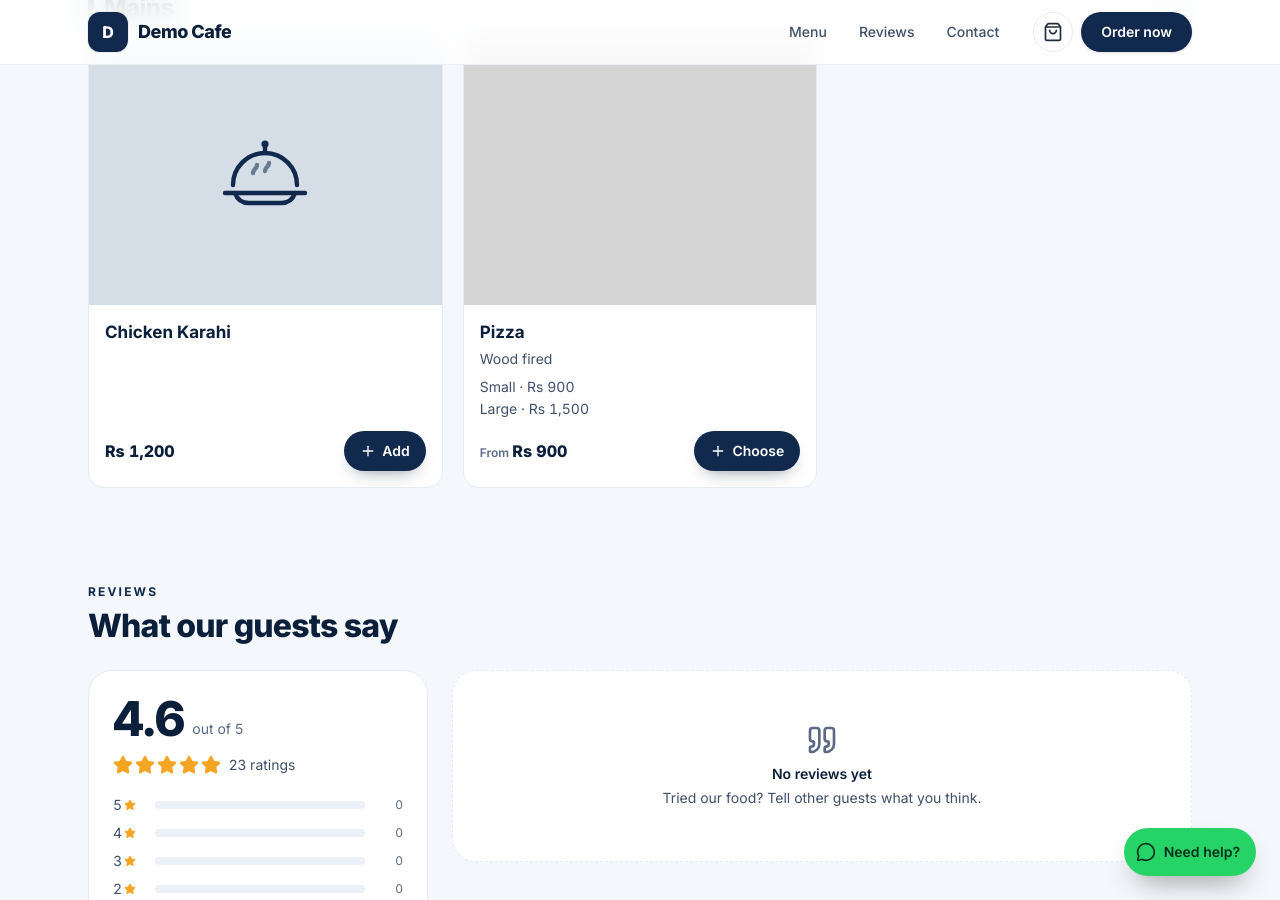
Test: StorefrontView ordering › refuses a delivery below the minimum with a friendly line
(page scrolled)
What coordinates should you click on to do the following:
click the button with aria-label "Add Chicken Karahi"
I would click on:
 (385, 450)
Its box is [344,430,426,470].
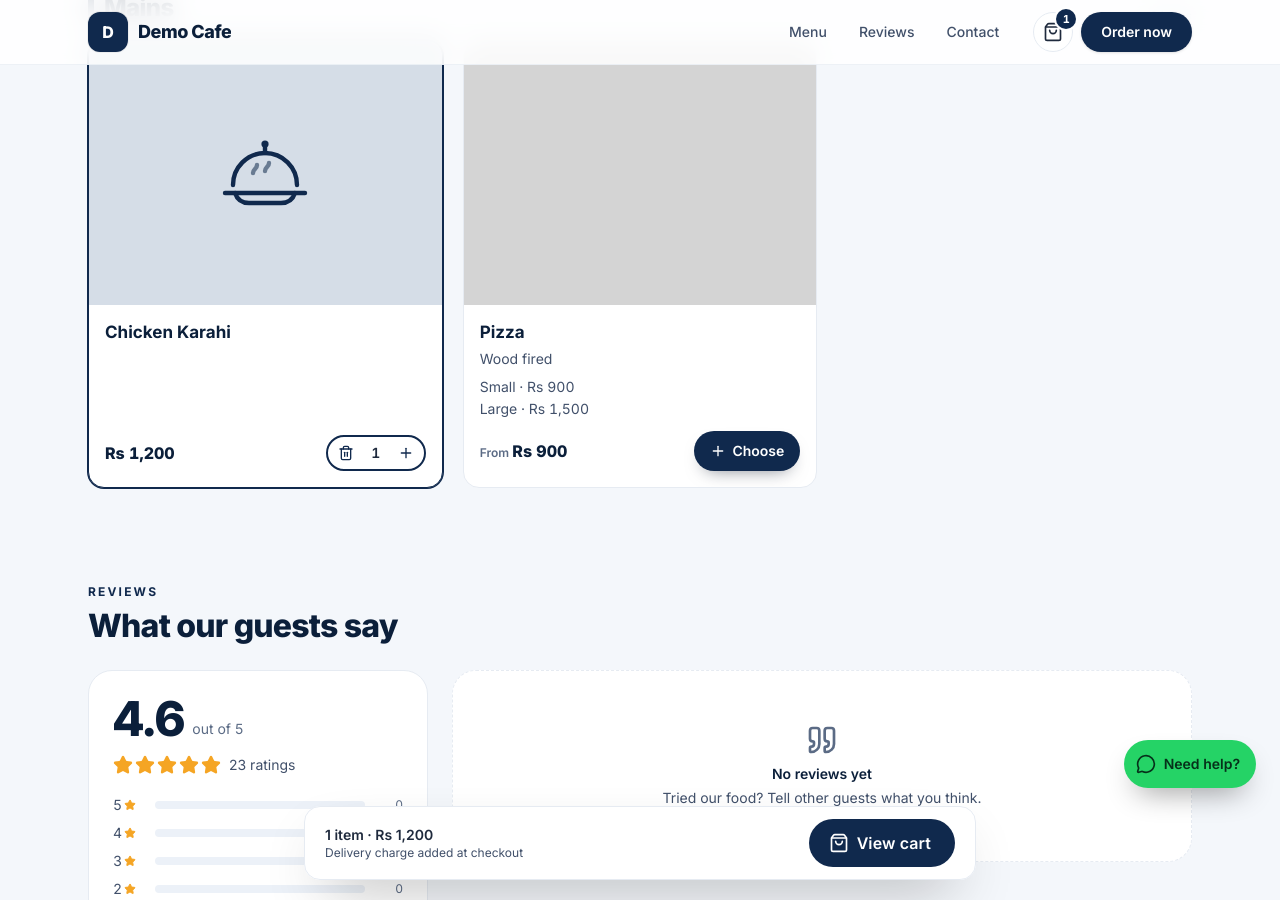
What coordinates should you click on to do the following:
click the button "View cart"
I would click on:
 (882, 843)
Its box is [809,819,955,867].
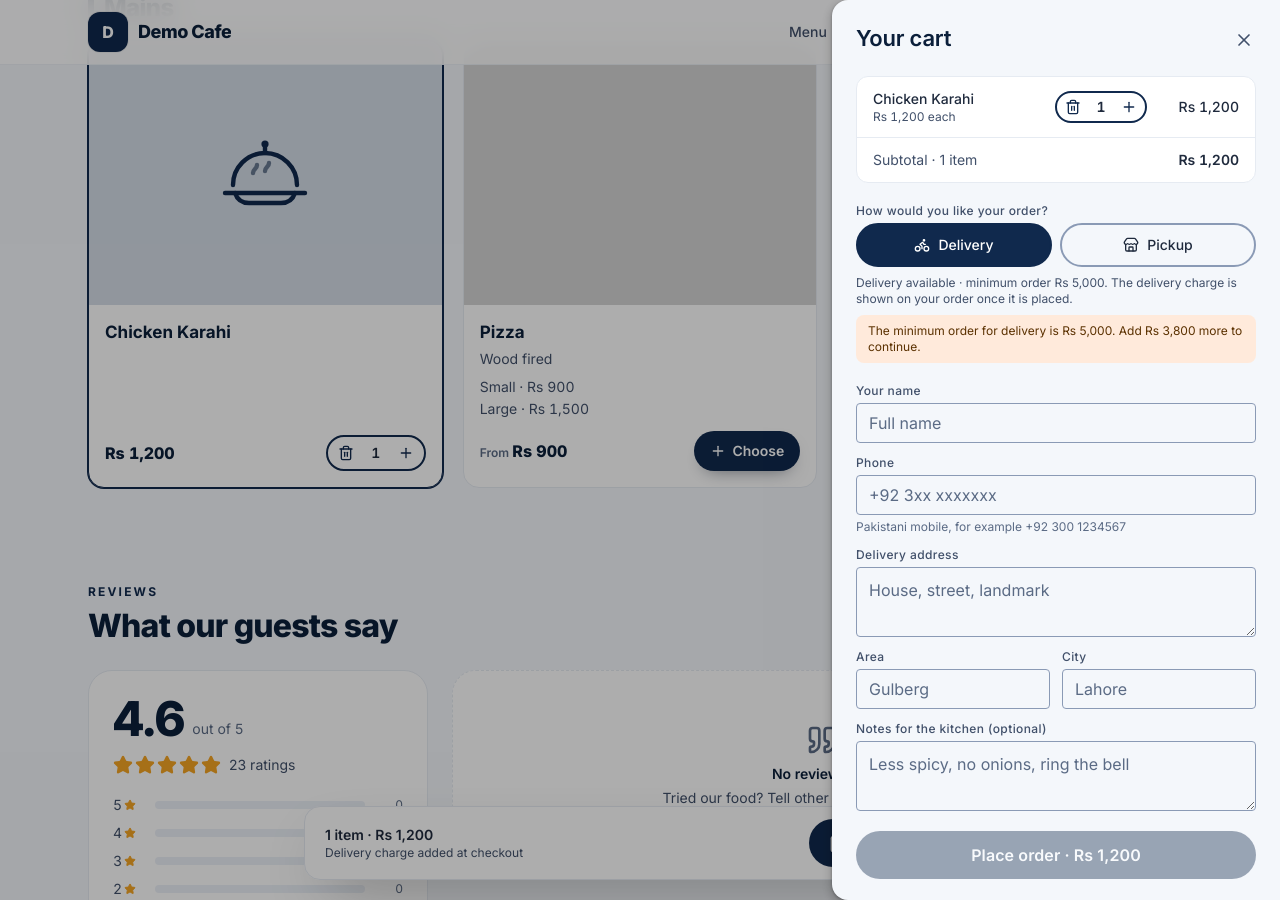
Check: the text "The minimum order for delivery is Rs 5,000. Add Rs 3,800 more to continue." is shown, box [856,315,1256,363]
What coordinates should you click on to do the following:
click the radio button labelled "Pickup"
I would click on:
 (1158, 245)
Its box is [1060,223,1256,267].
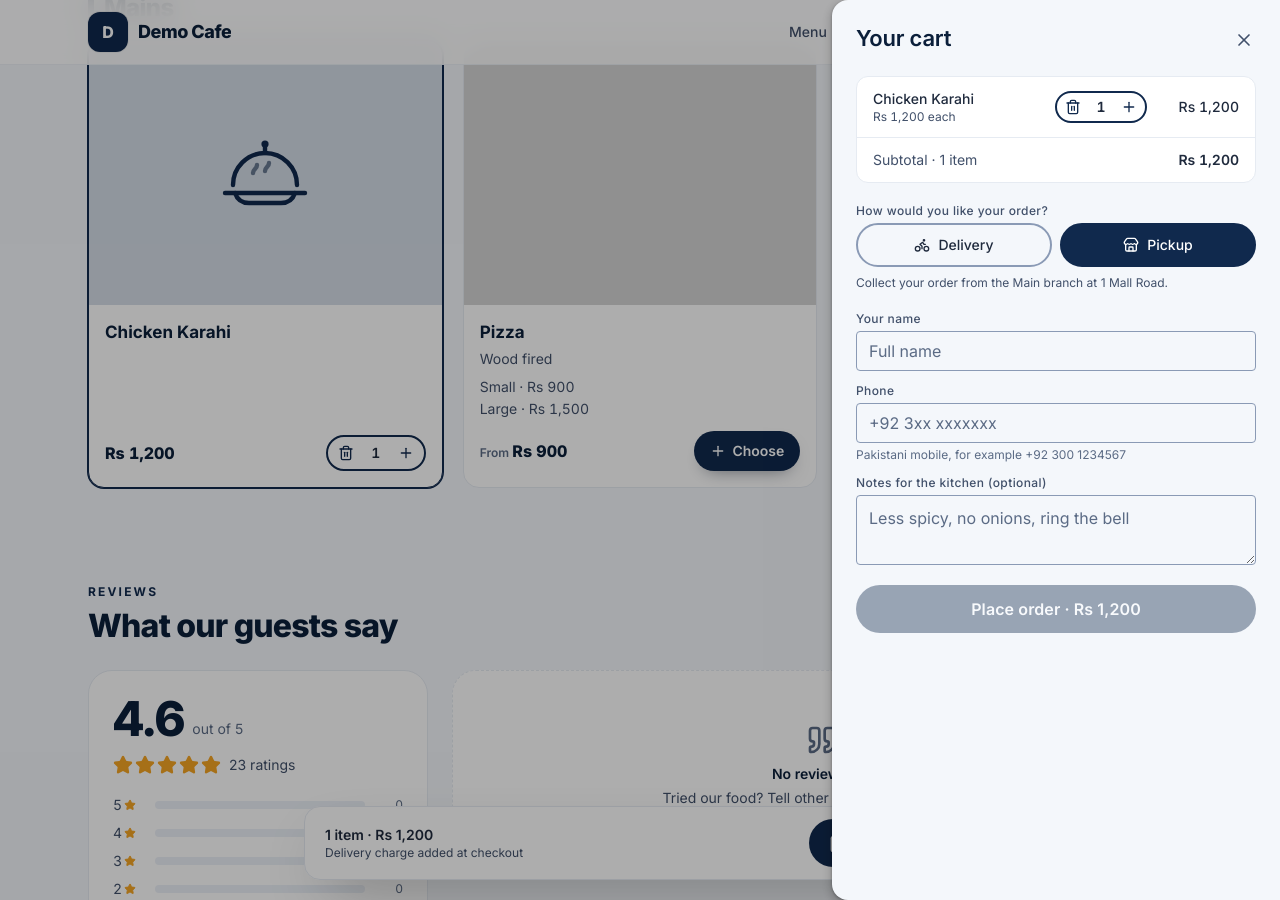
Check: the text "minimum order for delivery" is gone
